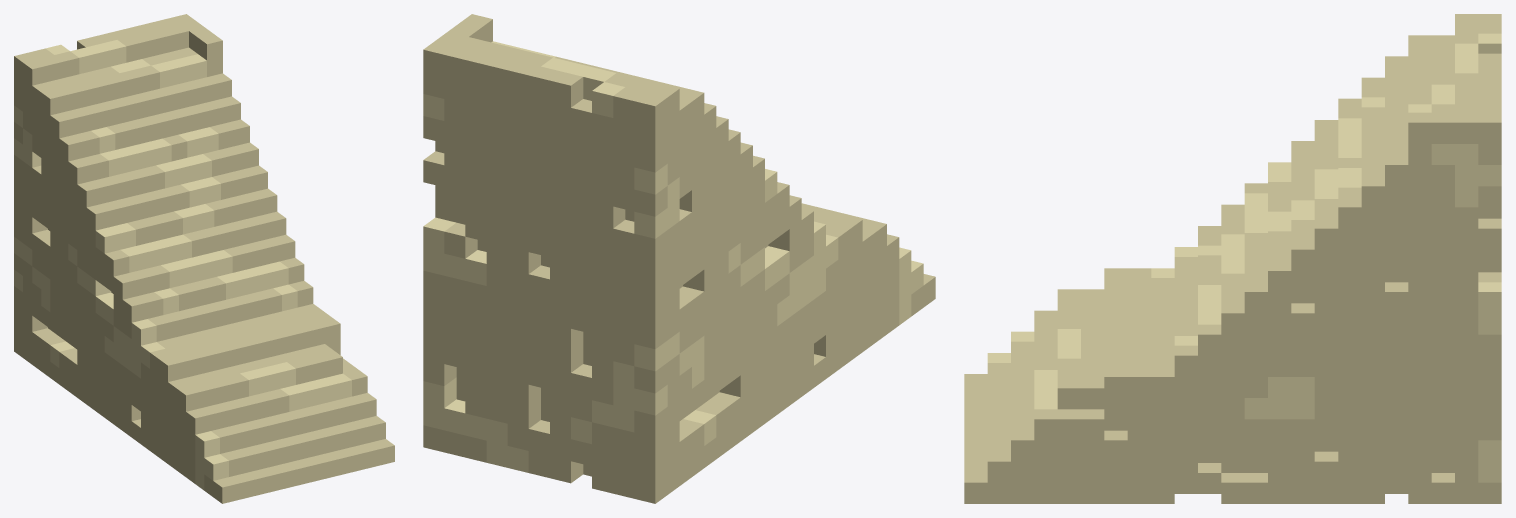
The model's file is Medieval Assets-125-Shop - Desert - Stairs - Variant2.obj.
3 renders of one model, left to right at view 1: azimuth 30°, elevation 25°; view 2: azimuth 150°, elevation 25°; view 3: azimuth 270°, elevation 25°, orthographic. The views are drawn at different scales.
Visible parts, largest first — view 1: Shop - Desert - Stairs - Variant2; view 2: Shop - Desert - Stairs - Variant2; view 3: Shop - Desert - Stairs - Variant2.
Boxes of the visible parts, x1,y1,x2,y2 form: Shop - Desert - Stairs - Variant2: (14, 14, 394, 503); Shop - Desert - Stairs - Variant2: (423, 14, 935, 503); Shop - Desert - Stairs - Variant2: (964, 14, 1501, 503).
Bounding box in the file's own units: 1.1 × 1.8 × 2.3.
1 material, 1 textured.
